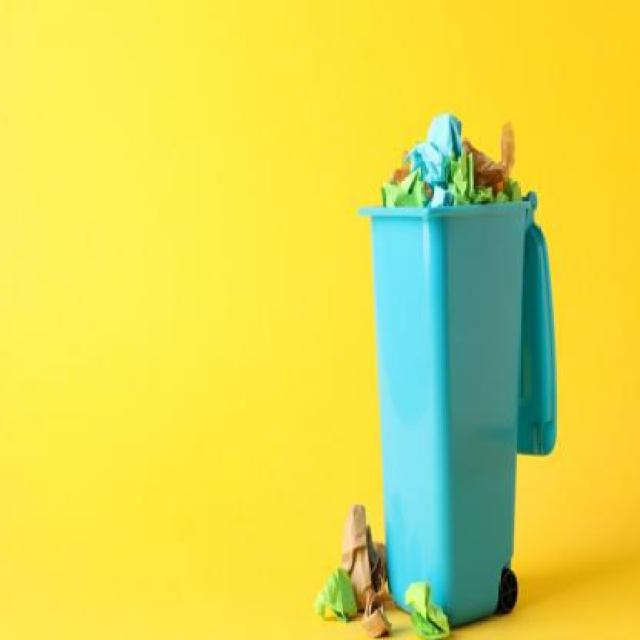garbage container: (346, 182, 563, 640)
